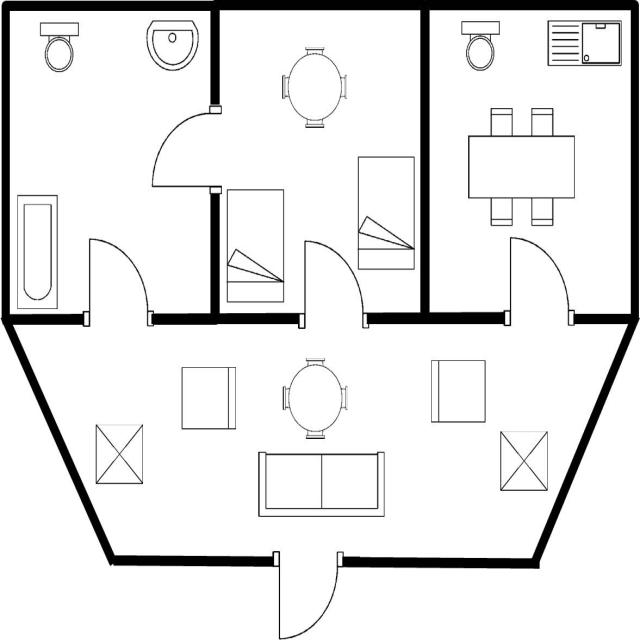bed: (223, 181, 287, 308), (353, 152, 416, 274)
coffee_table: (91, 418, 148, 491), (496, 425, 551, 496)
dining_table: (462, 102, 580, 232)
large_sink: (455, 15, 504, 76), (35, 16, 82, 76)
large_sofa: (253, 446, 390, 524)
round_table: (276, 39, 353, 135)
sink: (543, 15, 626, 73)
small_sink: (140, 15, 200, 77)
small_sofa: (175, 362, 242, 437), (425, 354, 490, 428)
tub: (14, 190, 62, 311)
